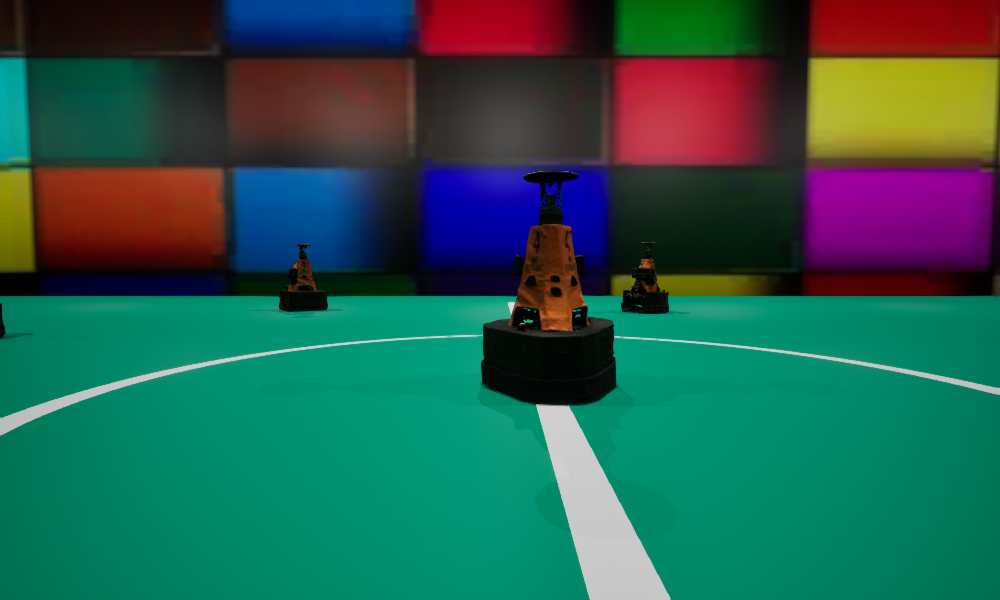o: (481, 171, 615, 404), (621, 242, 668, 312), (278, 244, 327, 310), (0, 303, 5, 336)
